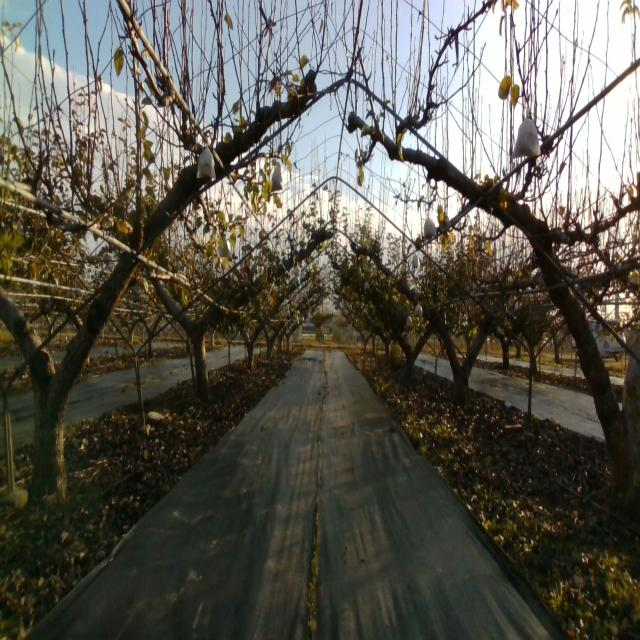pearbags: (509, 106, 541, 159), (196, 139, 216, 181), (269, 166, 284, 191), (423, 214, 437, 238), (218, 238, 232, 260)
